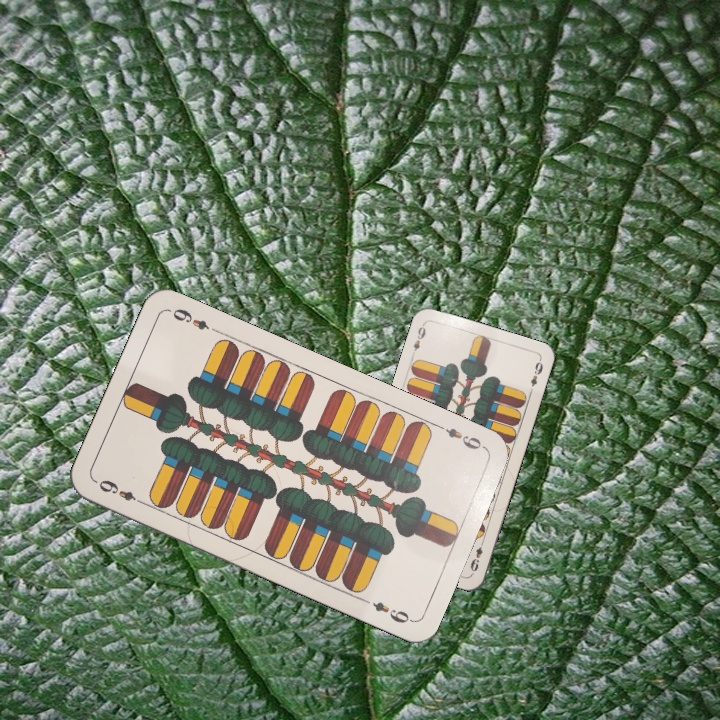E9: (433, 420, 489, 453), (94, 475, 148, 508), (466, 536, 486, 576), (408, 320, 428, 359)
